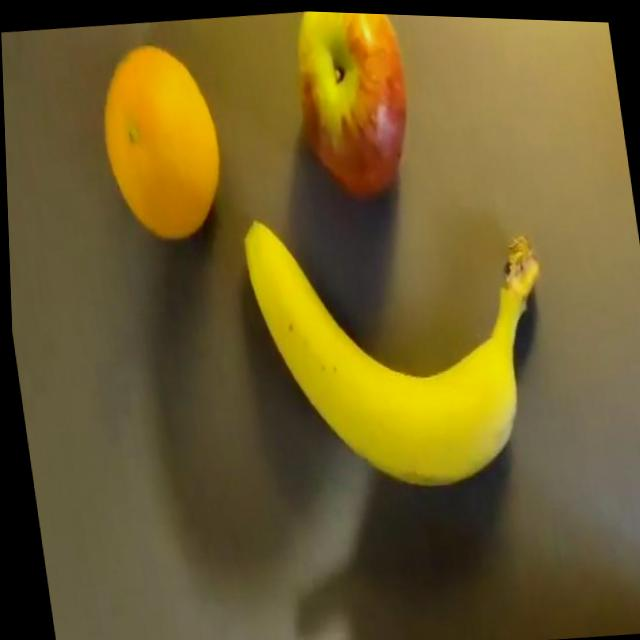Apple: (285, 8, 425, 209)
Banana: (234, 191, 562, 507)
Orange: (89, 33, 235, 253)
